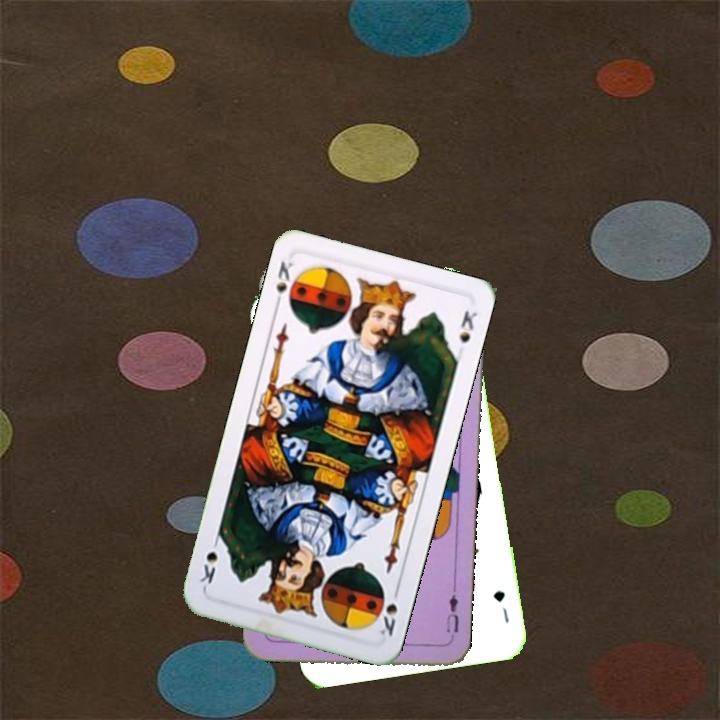EU: (442, 584, 461, 644)
GU: (489, 587, 512, 625)
SK: (375, 582, 402, 639), (270, 256, 296, 311)
